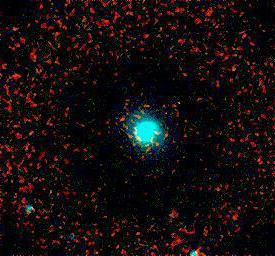star: (158, 201, 188, 231)
